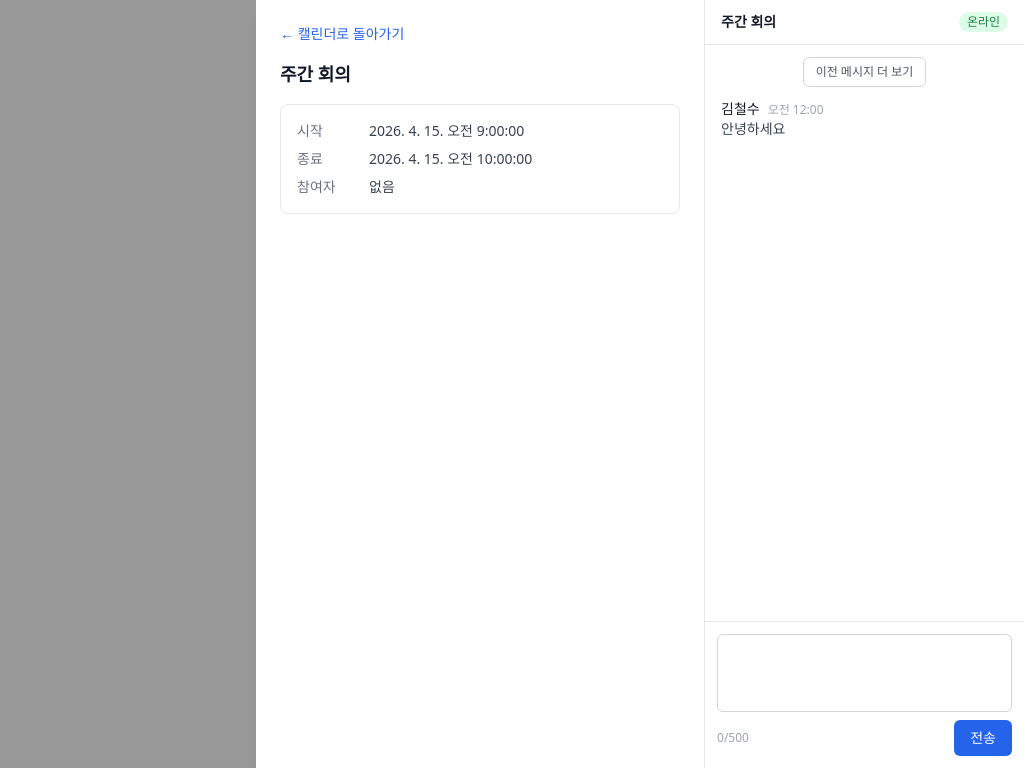
Scenario: ScheduleChatPanel - 채팅 이력 조회 › 다음 페이지 조회 결과 hasMore가 false이면 더보기 버튼이 사라진다
Click the button "이전 메시지 더 보기" at {"x": 865, "y": 72}, box [803,57,926,87]
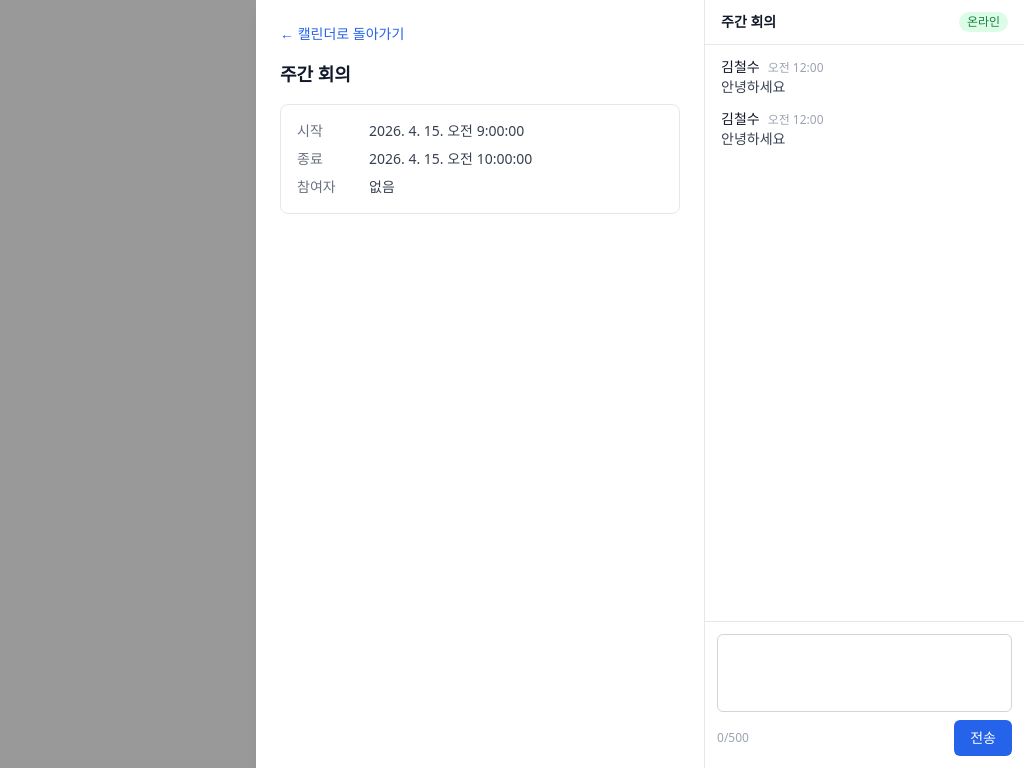
Now the button "이전 메시지 더 보기" is gone
